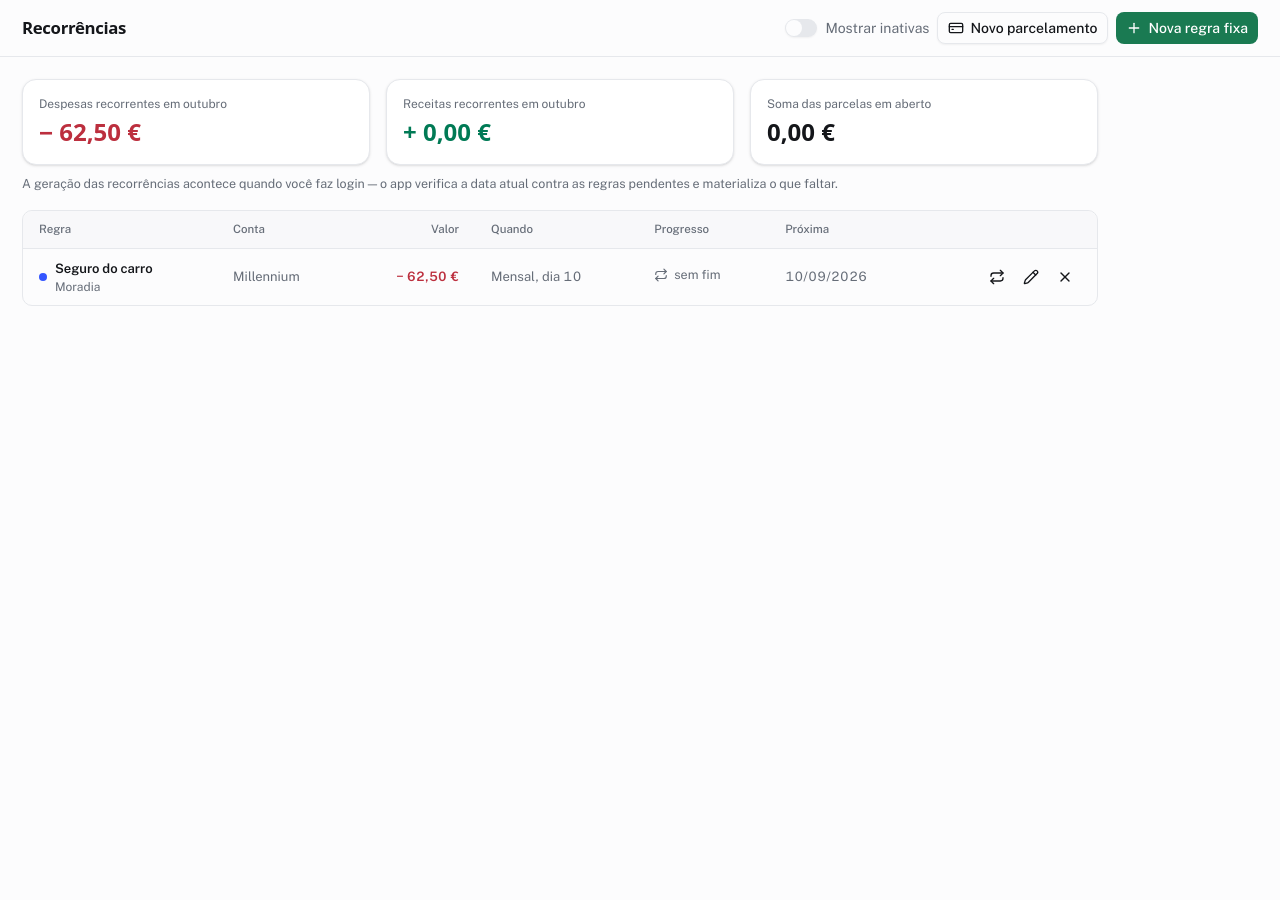
RecurrencesPage › reports when generate-now created nothing, without erroring
Check: the text "Seguro do carro" is shown, box [55,259,153,278]
Click the button named "Gerar agora" at (997, 277), box [981,261,1013,293]
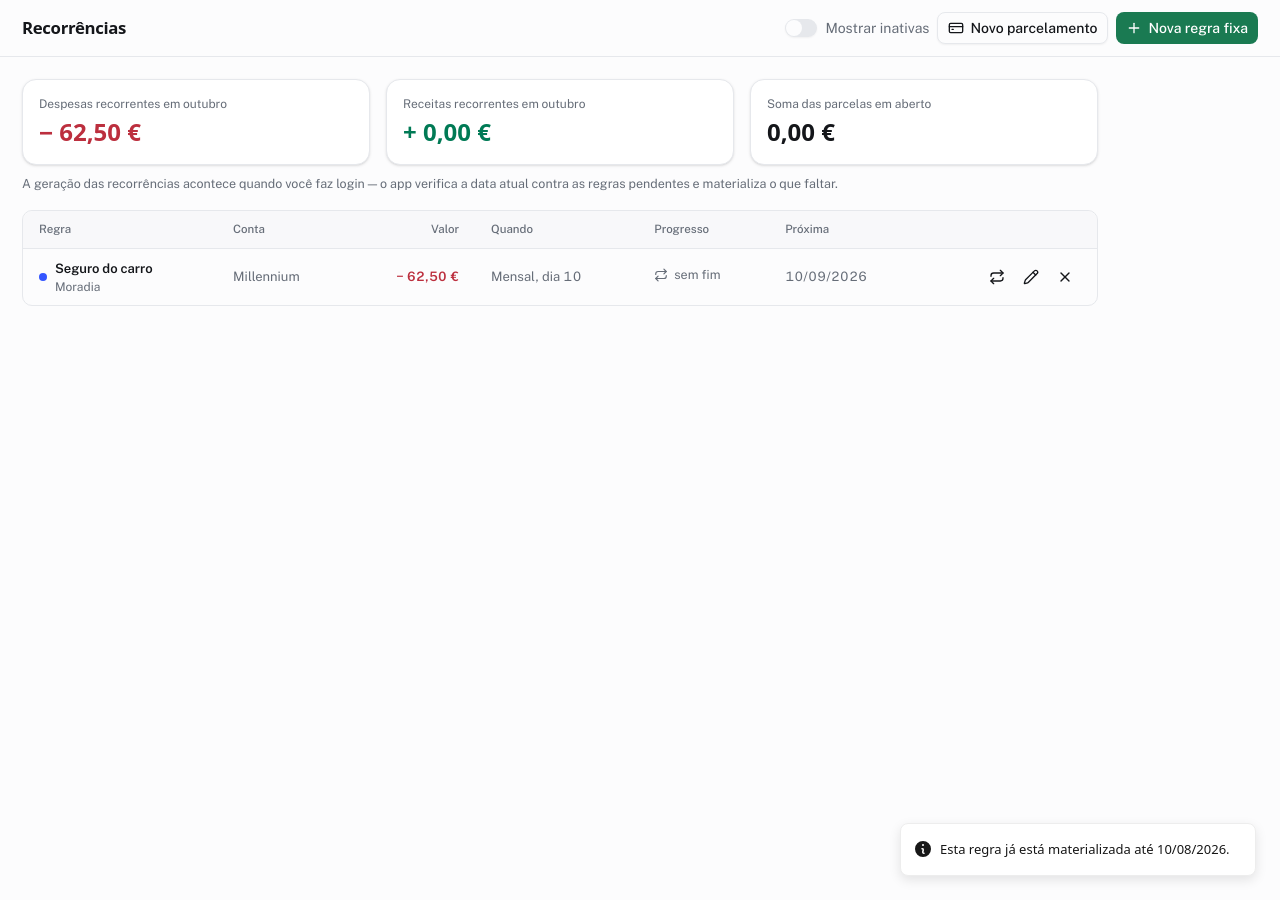
Check: the text "Esta regra já está materializada até 10/08/2026." is shown, box [940,840,1230,859]
